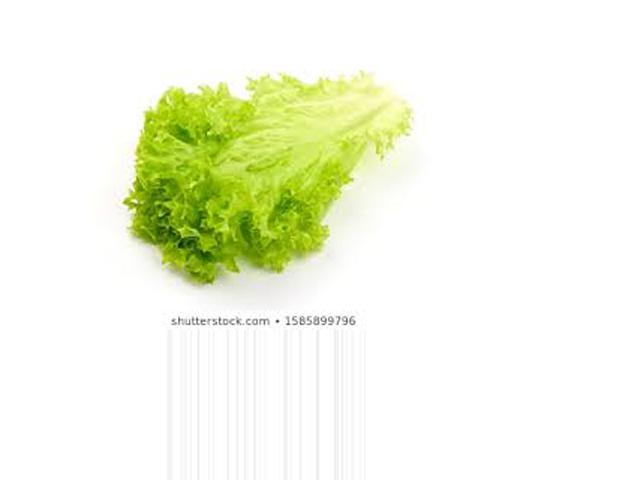lettuce: (112, 62, 409, 283)
